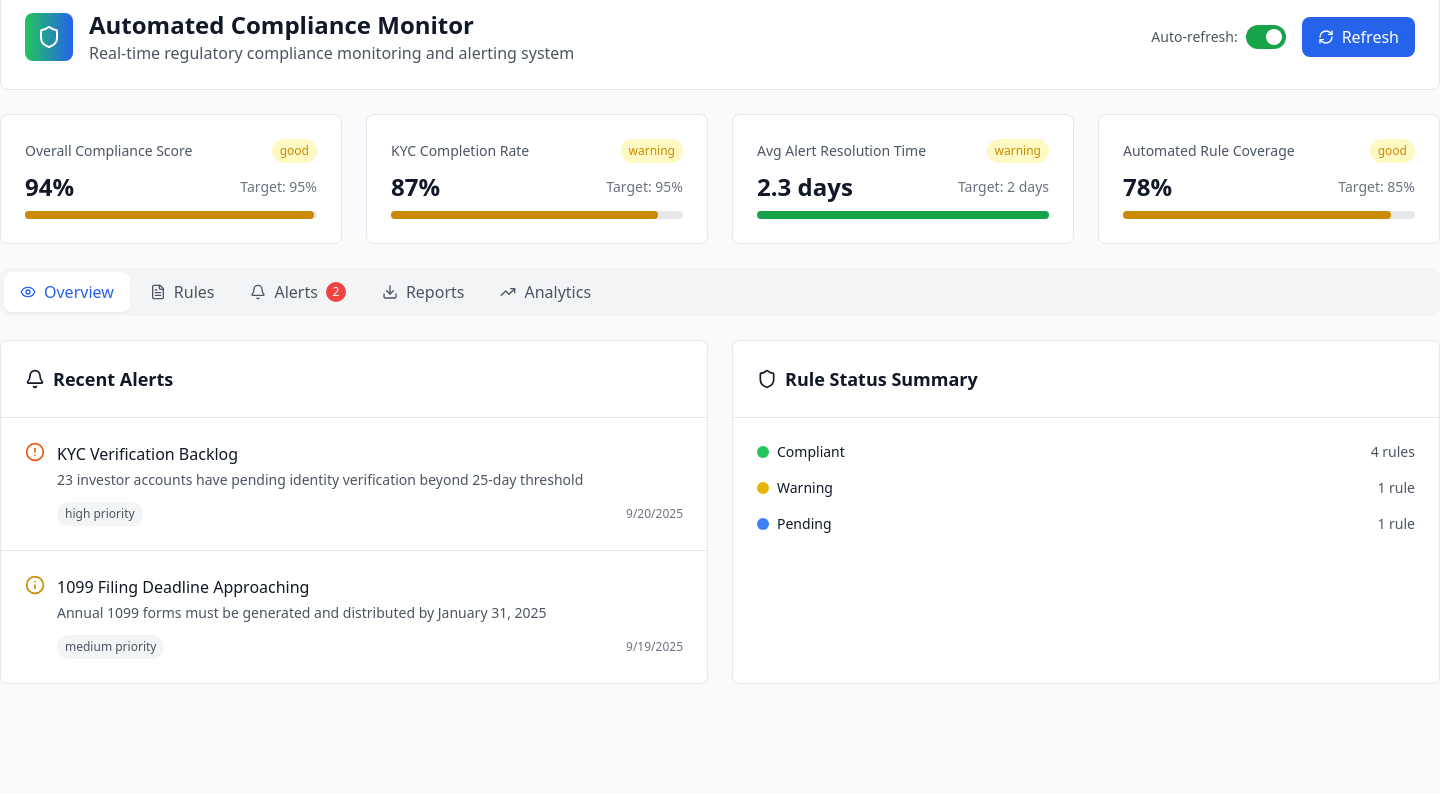
Scenario: AutomatedComplianceMonitor › displays compliance rules with categories
Click the button "Rules". click: {"x": 182, "y": 292}
box: [134, 272, 230, 312]
(page scrolled)
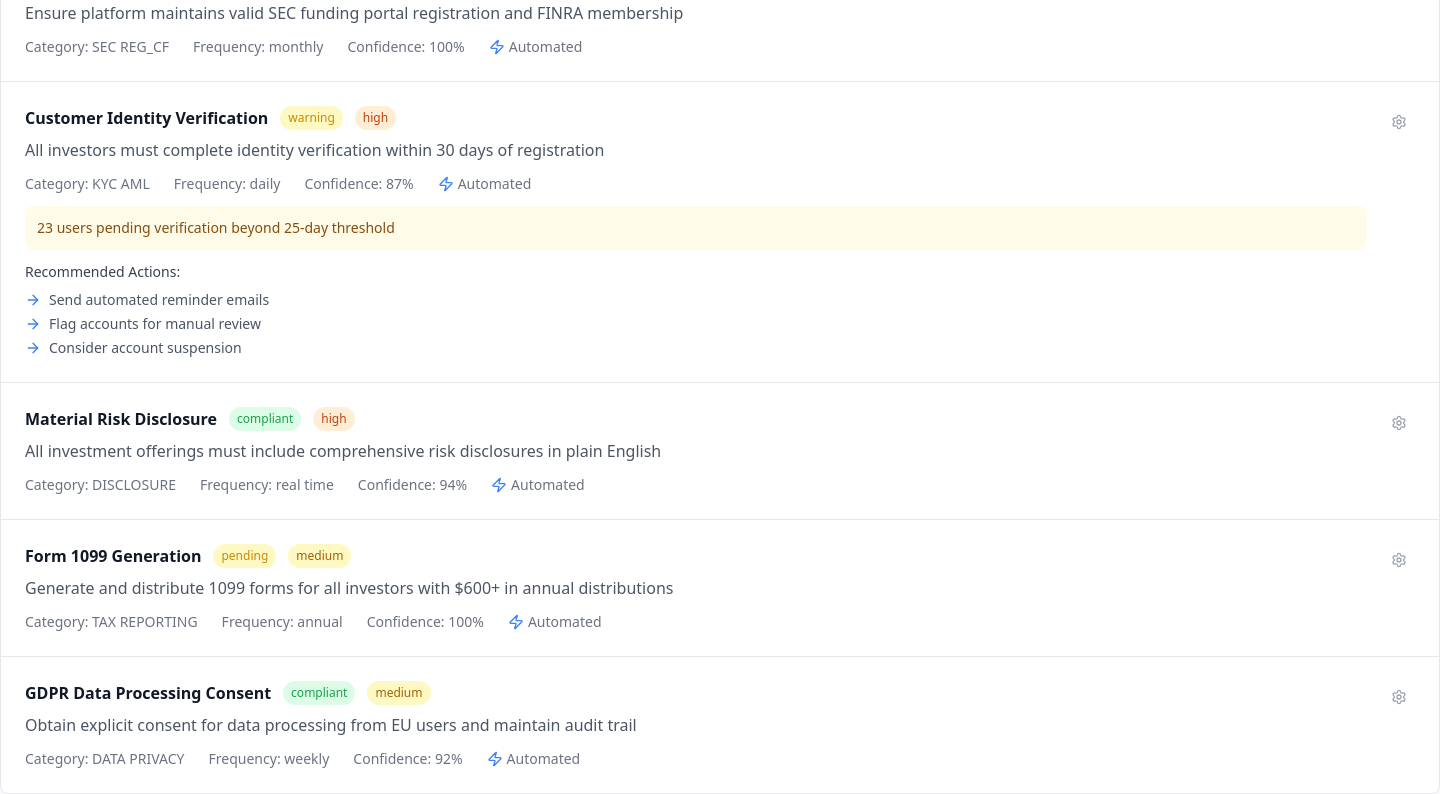
Expected: the heading "Customer Identity Verification" is shown, [25, 106, 268, 130]
Expected: the heading "Material Risk Disclosure" is shown, [25, 407, 217, 431]
